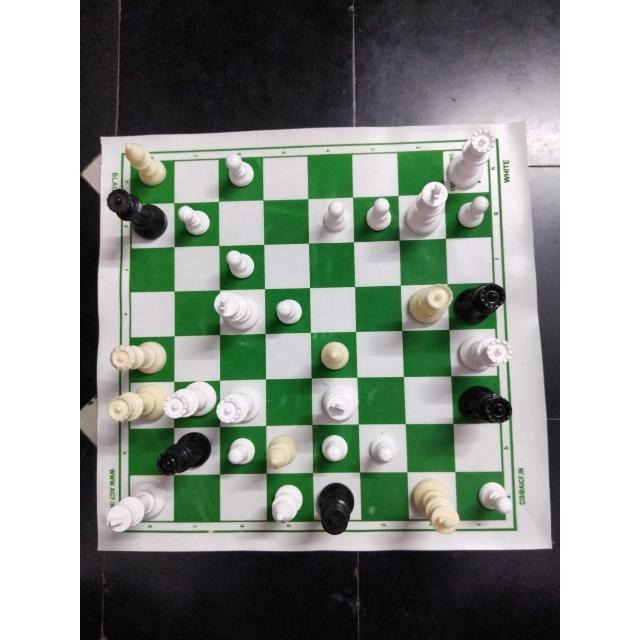black-king: (315, 481, 363, 537)
black-queen: (103, 187, 172, 244), (454, 382, 514, 426), (153, 432, 213, 476), (453, 282, 508, 325)
white-bishop: (120, 141, 168, 191), (266, 481, 306, 529), (264, 430, 305, 474), (315, 335, 355, 378)
white-king: (104, 482, 168, 535), (407, 475, 462, 535), (403, 184, 450, 238), (212, 288, 263, 332), (315, 386, 359, 424)
white-pawn: (473, 478, 513, 518), (219, 152, 257, 190), (453, 195, 491, 233), (175, 203, 213, 240), (317, 198, 351, 238), (223, 434, 259, 470), (360, 197, 396, 232), (317, 429, 352, 465), (220, 250, 260, 280), (364, 432, 401, 463), (272, 294, 304, 327)
white-queen: (444, 128, 496, 190), (106, 384, 170, 426), (161, 379, 219, 423), (454, 333, 517, 371), (107, 339, 170, 377), (404, 282, 453, 329), (215, 388, 264, 428)
